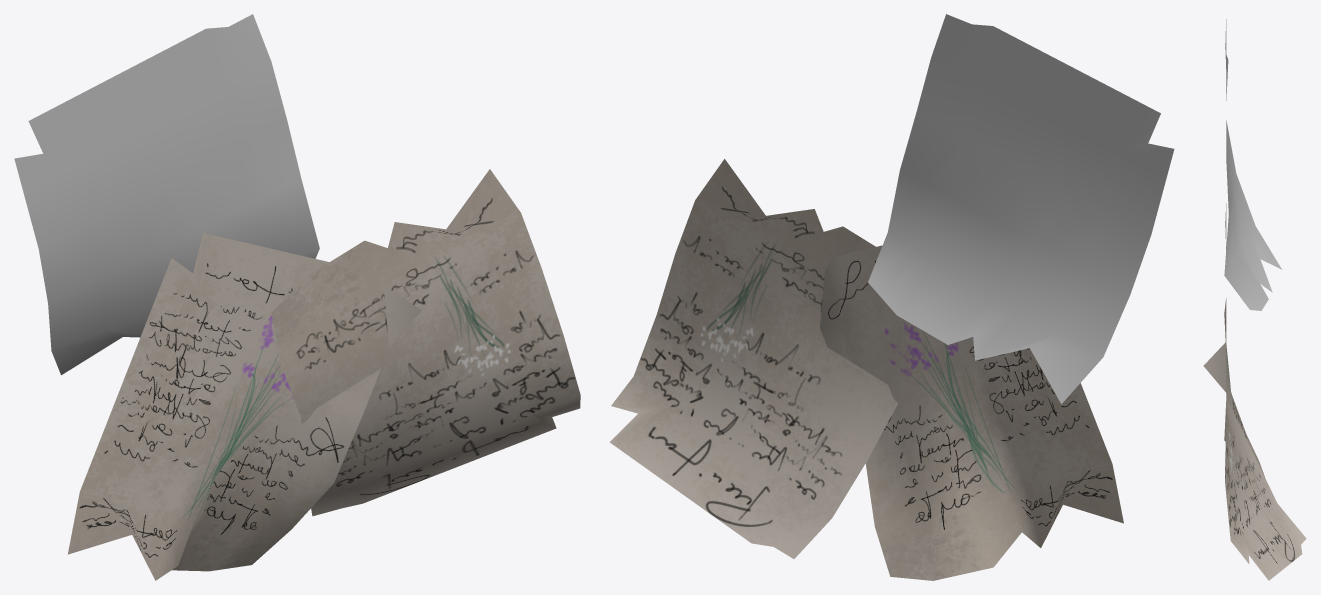
The model's file is Drawings2.fbx.
The picture shows the model from 3 angles, left to right: view 1: azimuth 30°, elevation 25°; view 2: azimuth 150°, elevation 25°; view 3: azimuth 270°, elevation 25°; orthographic projection. The views are drawn at different scales.
Parts seen in each view (by area): view 1: Kartka4, Kartka3, Kartka2; view 2: Kartka4, Kartka2, Kartka3; view 3: Kartka2, Kartka4, Kartka3.
Boxes of the visible parts, left/top/right/bottom form: Kartka4: left=14, top=14, right=319, bottom=375; Kartka3: left=67, top=233, right=421, bottom=580; Kartka2: left=271, top=169, right=580, bottom=516; Kartka4: left=868, top=14, right=1174, bottom=403; Kartka2: left=609, top=159, right=898, bottom=558; Kartka3: left=820, top=245, right=1123, bottom=580; Kartka2: left=1224, top=298, right=1306, bottom=580; Kartka4: left=1224, top=19, right=1281, bottom=310; Kartka3: left=1203, top=203, right=1264, bottom=476.
Size of the model in its own units: 133 by 127 by 26.53.
